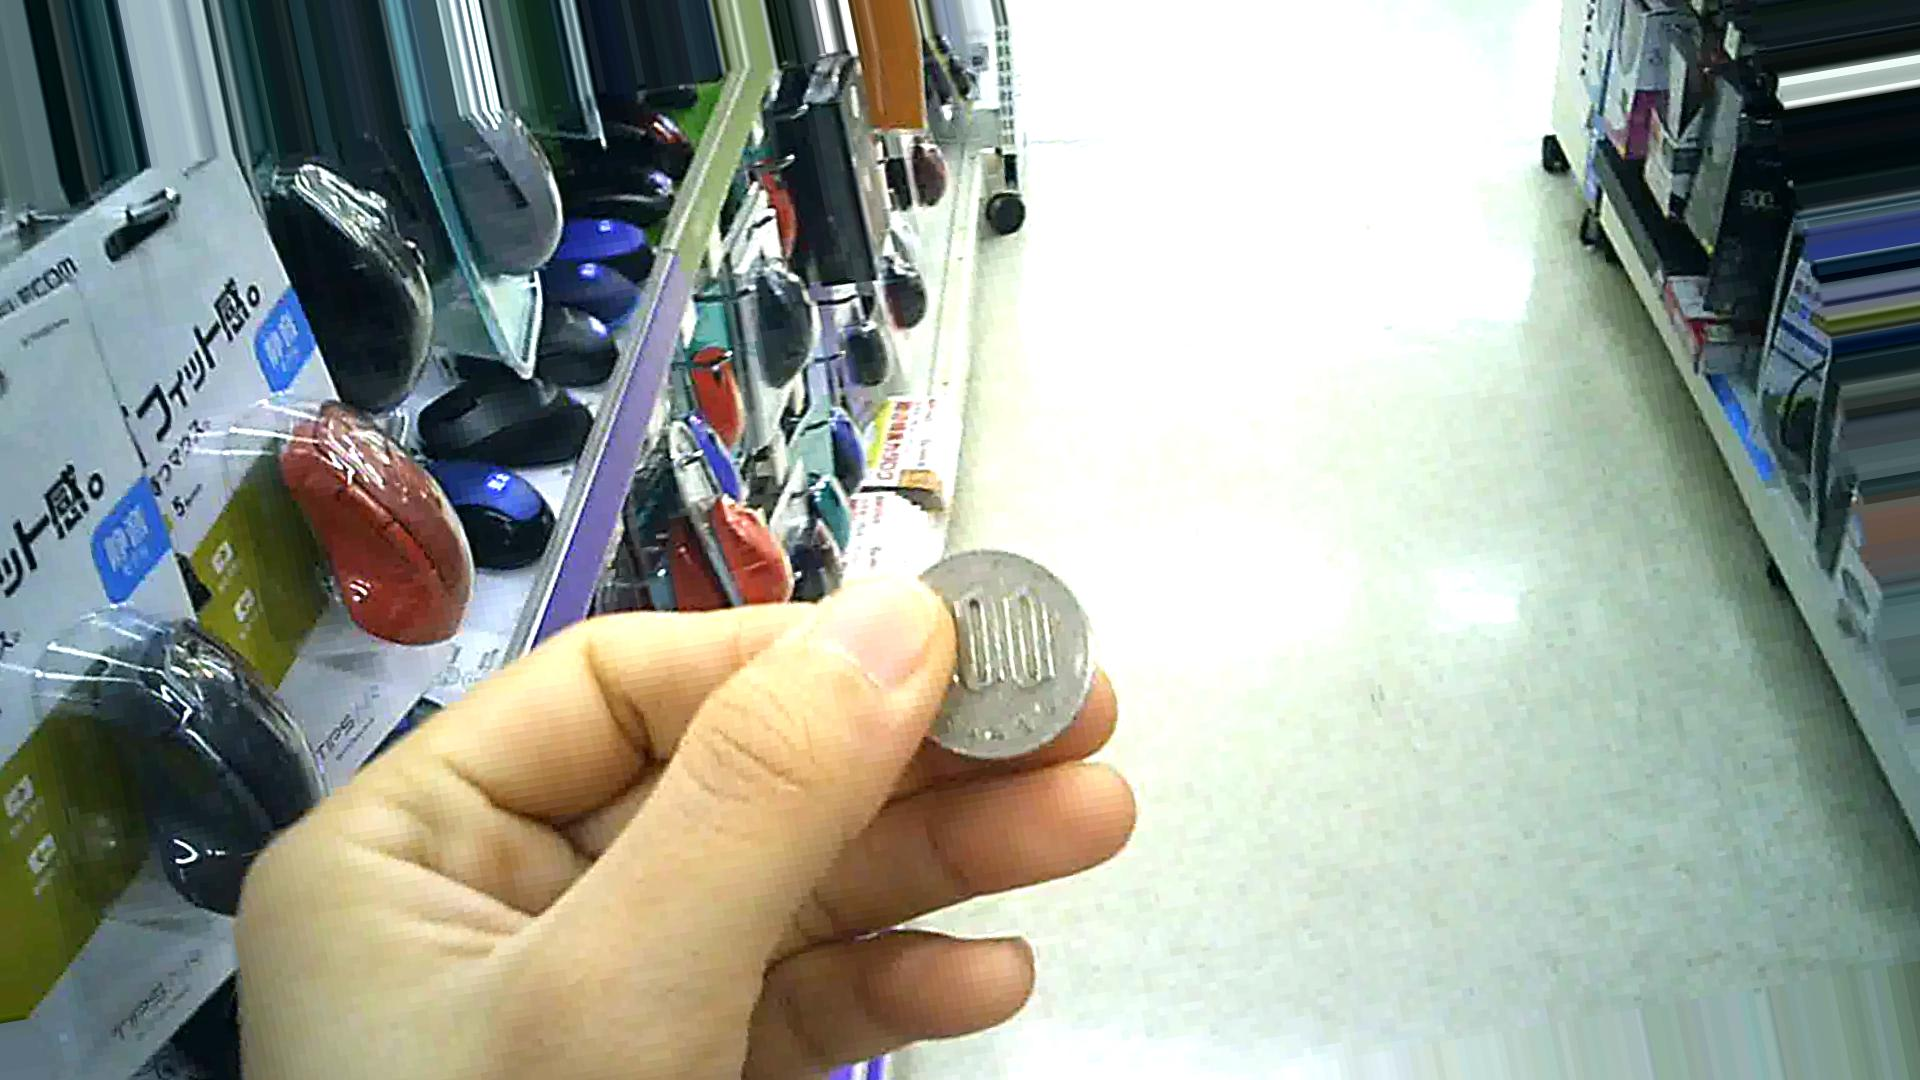100 Yen: (869, 542, 1098, 766)
